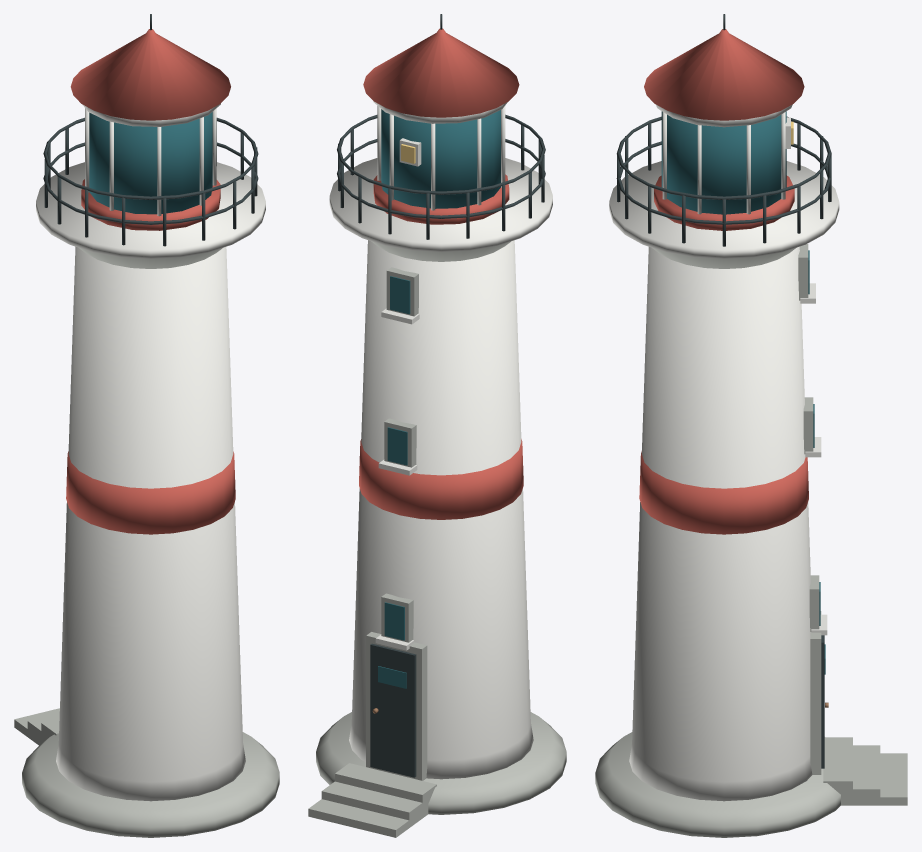
The model's file is ENV_Lighthouse.fbx.
The picture shows the model from 3 angles, left to right: view 1: azimuth 30°, elevation 25°; view 2: azimuth 150°, elevation 25°; view 3: azimuth 270°, elevation 25°; orthographic projection. The views are drawn at different scales.
Parts seen in each view (by area): view 1: ENV_Lighthouse_Root_Visual; view 2: ENV_Lighthouse_Root_Visual, BeaconPivot_Visual; view 3: ENV_Lighthouse_Root_Visual.
Boxes of the visible parts, x1=… form: ENV_Lighthouse_Root_Visual: x1=14, y1=14, x2=279, y2=837; ENV_Lighthouse_Root_Visual: x1=308, y1=14, x2=566, y2=837; BeaconPivot_Visual: x1=399, y1=138, x2=421, y2=166; ENV_Lighthouse_Root_Visual: x1=595, y1=14, x2=907, y2=837.
Bounding box in the file's own units: 260 × 856 × 315.
